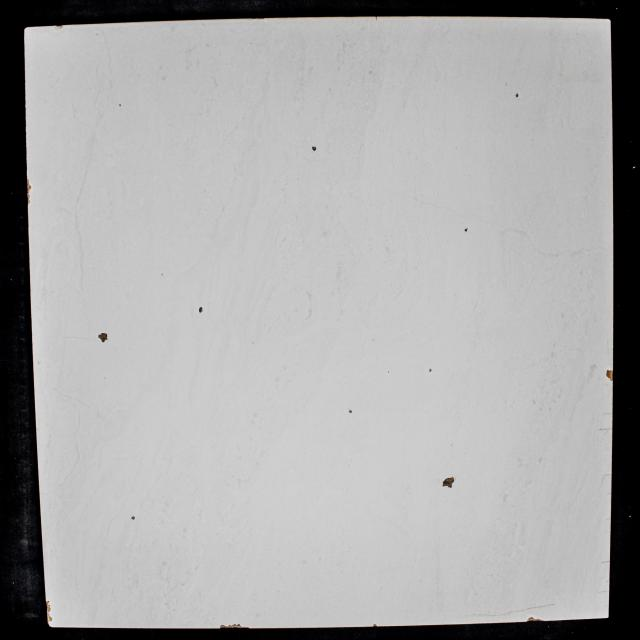edge-chipping: (26, 177, 32, 205), (606, 369, 613, 382), (46, 613, 53, 622), (526, 616, 536, 622), (46, 601, 51, 612), (54, 25, 64, 29), (219, 625, 227, 629), (232, 624, 240, 628), (536, 618, 544, 622), (241, 626, 249, 629), (47, 624, 52, 628), (228, 624, 231, 628), (373, 624, 377, 627)
hole: (442, 476, 455, 489), (98, 332, 109, 343), (311, 146, 317, 152), (198, 306, 203, 313), (515, 92, 519, 98), (464, 227, 468, 232), (348, 409, 352, 414), (118, 103, 122, 107), (131, 516, 135, 520), (429, 368, 432, 372)
line: (527, 603, 555, 611), (502, 609, 526, 615), (468, 613, 500, 617), (598, 428, 613, 432), (602, 412, 613, 416), (598, 590, 610, 593), (602, 560, 610, 564), (604, 474, 612, 476)
